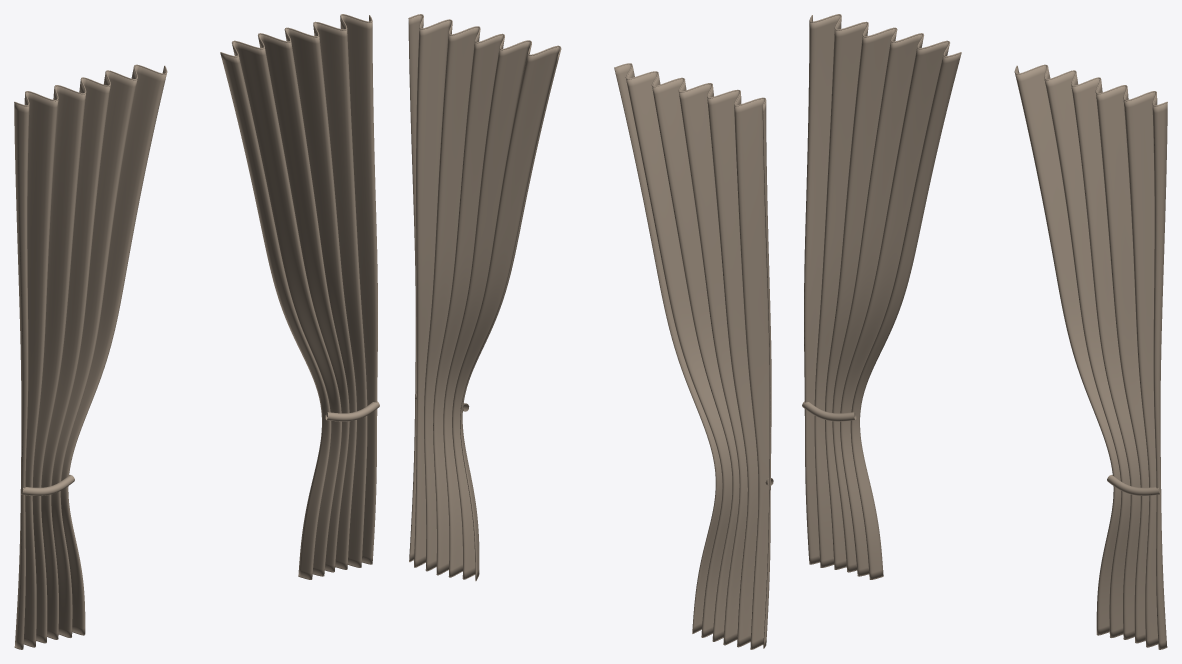
File: curtains-draped.glb
3 renders of one model, left to right at view 1: azimuth 30°, elevation 25°; view 2: azimuth 150°, elevation 25°; view 3: azimuth 330°, elevation 25°, orthographic.
Parts seen in each view (by area): view 1: Right tied curtain, Left tied curtain; view 2: Left tied curtain, Right tied curtain; view 3: Left tied curtain, Right tied curtain.
Boxes of the visible parts, x1=… form: Right tied curtain: x1=220, y1=15, x2=377, y2=579; Left tied curtain: x1=14, y1=65, x2=166, y2=649; Left tied curtain: x1=614, y1=64, x2=771, y2=648; Right tied curtain: x1=408, y1=15, x2=560, y2=580; Left tied curtain: x1=804, y1=15, x2=961, y2=579; Right tied curtain: x1=1015, y1=65, x2=1167, y2=649.
Size of the model in its own units: 1.79 by 2.62 by 0.1853.
